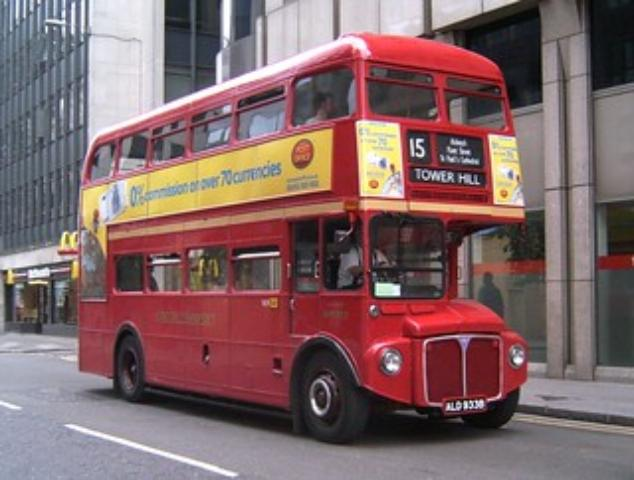bus: (75, 32, 532, 444)
